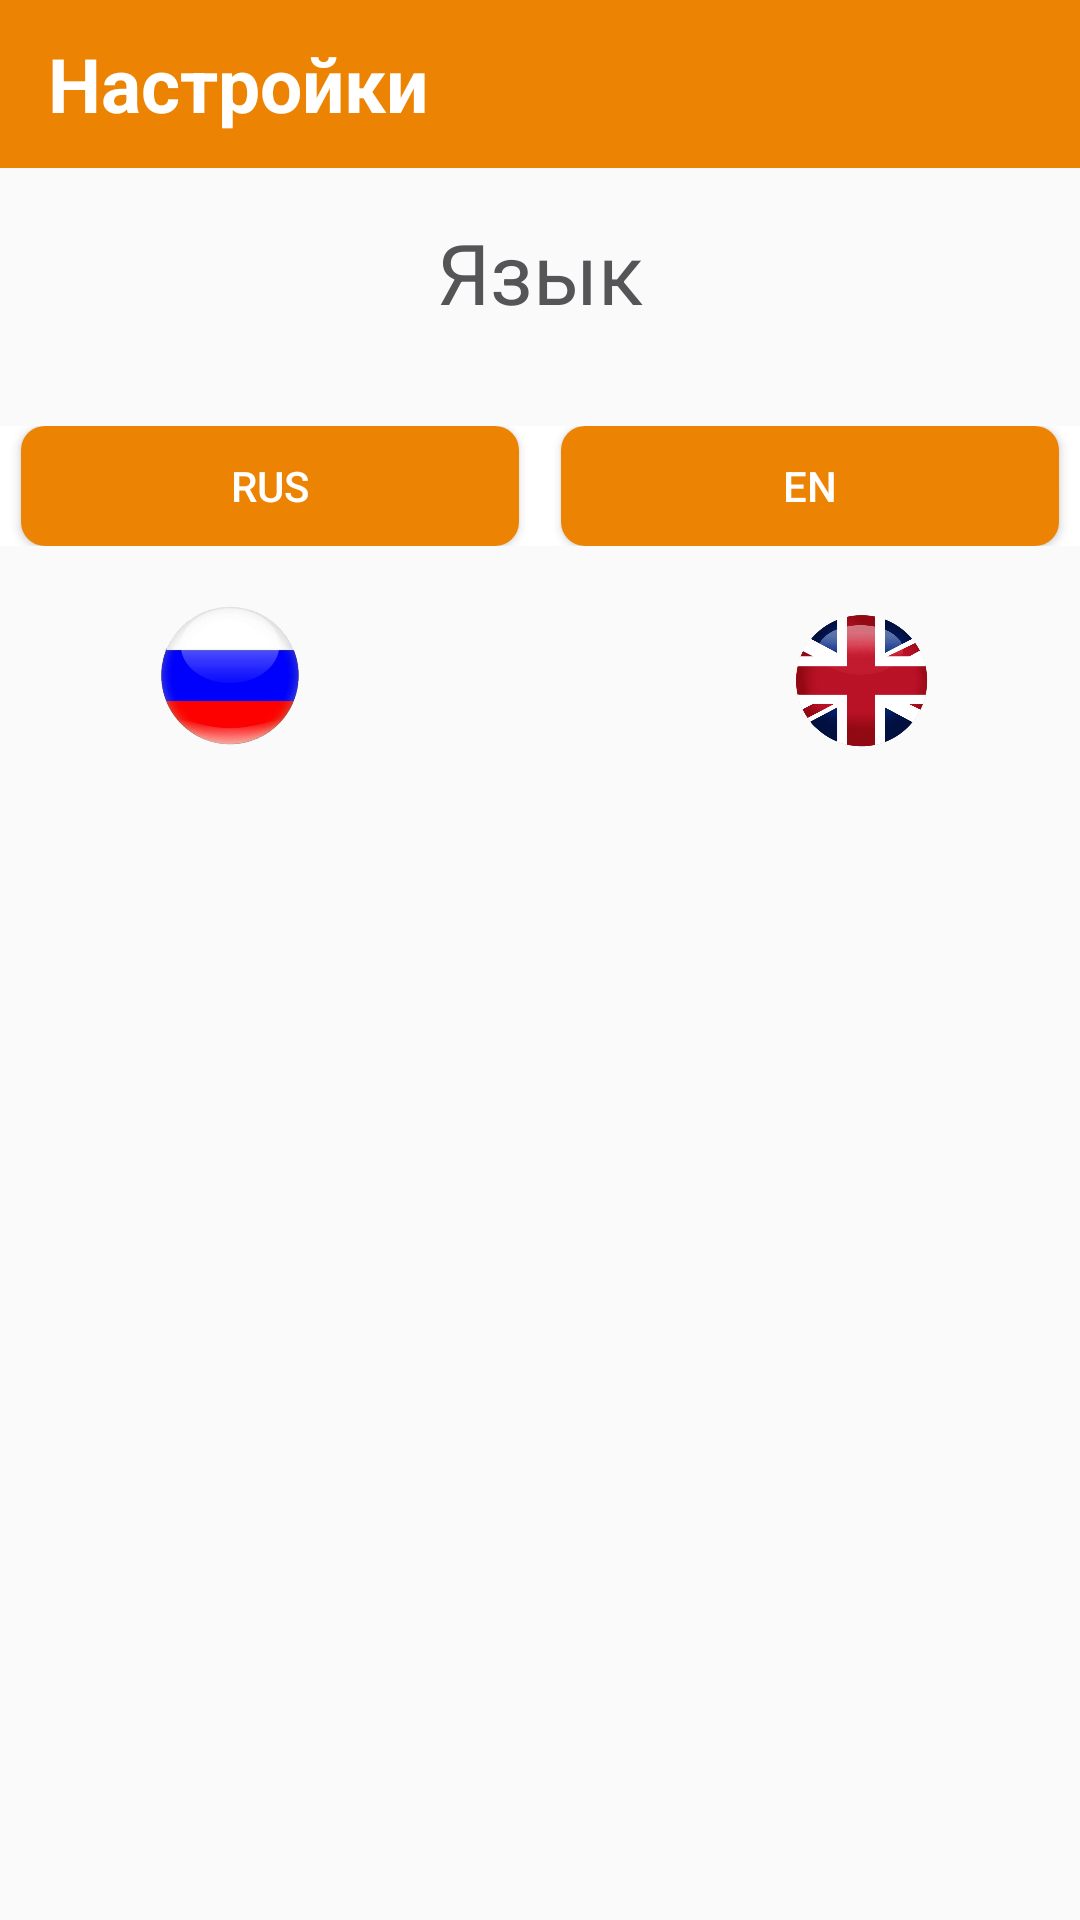

Icon click points for this 1080px x 1920px phone screenshot, format (x,y):
russia: (230,676)
